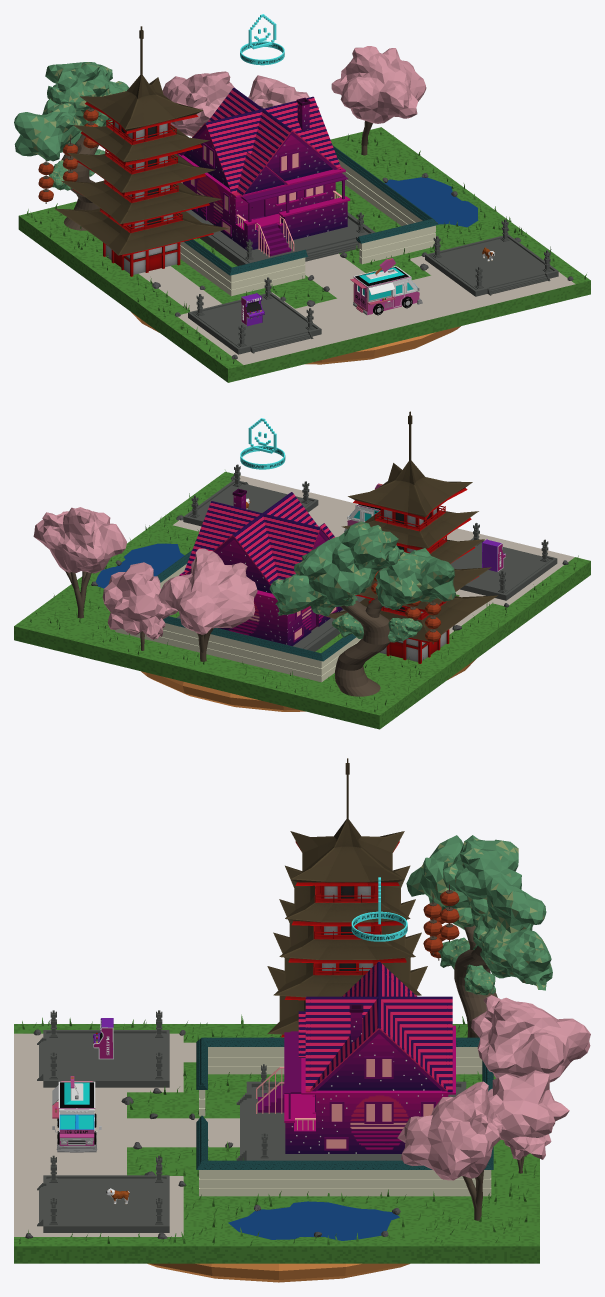
The picture shows the model from 3 angles, top to bottom: view 1: azimuth 30°, elevation 25°; view 2: azimuth 150°, elevation 25°; view 3: azimuth 270°, elevation 25°; orthographic projection. The views are drawn at different scales.
Visible parts, largest first — view 1: Cube.005, Cube.156, VEHICLES_ICE_CREAM_TRUCK, UNDERGROUND_PIZZA, TYPE_PREMIUM, OBJRANDOM_ARCADE; view 2: Cube.005, Cube.156, UNDERGROUND_PIZZA, TYPE_PREMIUM, OBJRANDOM_ARCADE, VEHICLES_ICE_CREAM_TRUCK; view 3: Cube.005, Cube.156, UNDERGROUND_PIZZA, VEHICLES_ICE_CREAM_TRUCK, TYPE_PREMIUM, OBJRANDOM_ARCADE.
Part boxes in pixels (x1,y1,x2,y2): Cube.005: [14, 26, 590, 382]; Cube.156: [177, 87, 350, 257]; VEHICLES_ICE_CREAM_TRUCK: [350, 258, 422, 315]; UNDERGROUND_PIZZA: [131, 312, 460, 364]; TYPE_PREMIUM: [240, 14, 284, 65]; OBJRANDOM_ARCADE: [241, 293, 264, 326]; Cube.005: [14, 411, 590, 729]; Cube.156: [179, 488, 342, 646]; UNDERGROUND_PIZZA: [141, 659, 475, 711]; TYPE_PREMIUM: [240, 418, 285, 469]; OBJRANDOM_ARCADE: [482, 539, 505, 571]; VEHICLES_ICE_CREAM_TRUCK: [344, 483, 382, 531]; Cube.005: [14, 758, 590, 1263]; Cube.156: [256, 961, 455, 1153]; UNDERGROUND_PIZZA: [147, 1263, 409, 1282]; VEHICLES_ICE_CREAM_TRUCK: [52, 1076, 101, 1152]; TYPE_PREMIUM: [351, 877, 407, 941]; OBJRANDOM_ARCADE: [93, 1018, 113, 1059].
Bounding box in the file's own units: 4528 × 2902 × 4389.
61 materials, 8 textured.
